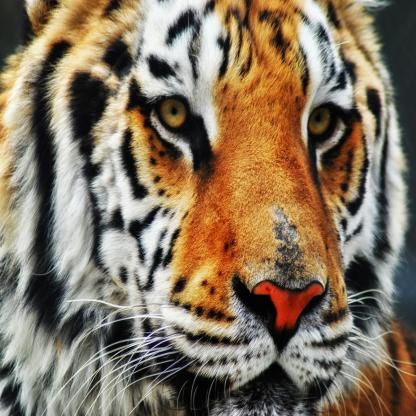tiger: (14, 0, 407, 415)
